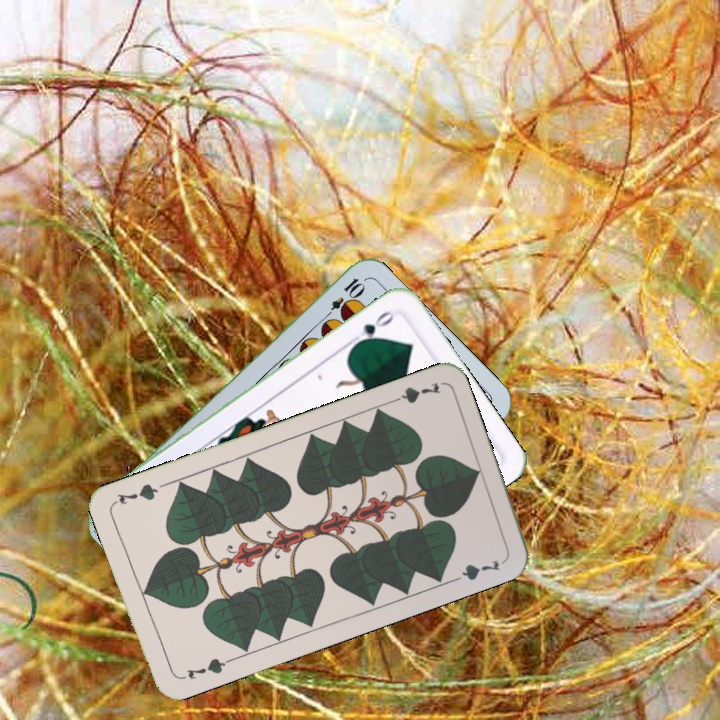E10: (319, 274, 367, 324)
G7: (385, 378, 443, 407), (182, 654, 233, 682)
GO: (349, 307, 398, 349)
